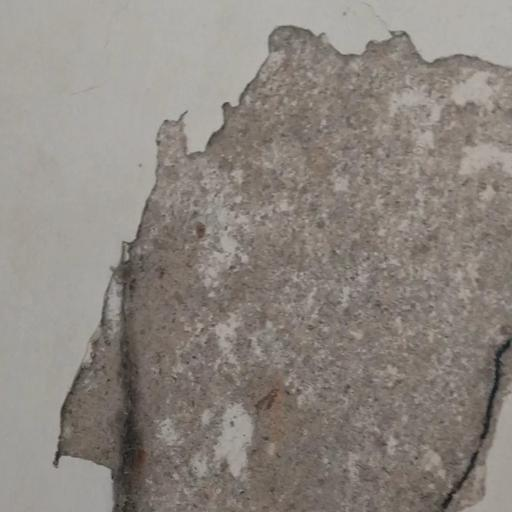spalling: (52, 18, 512, 512)
